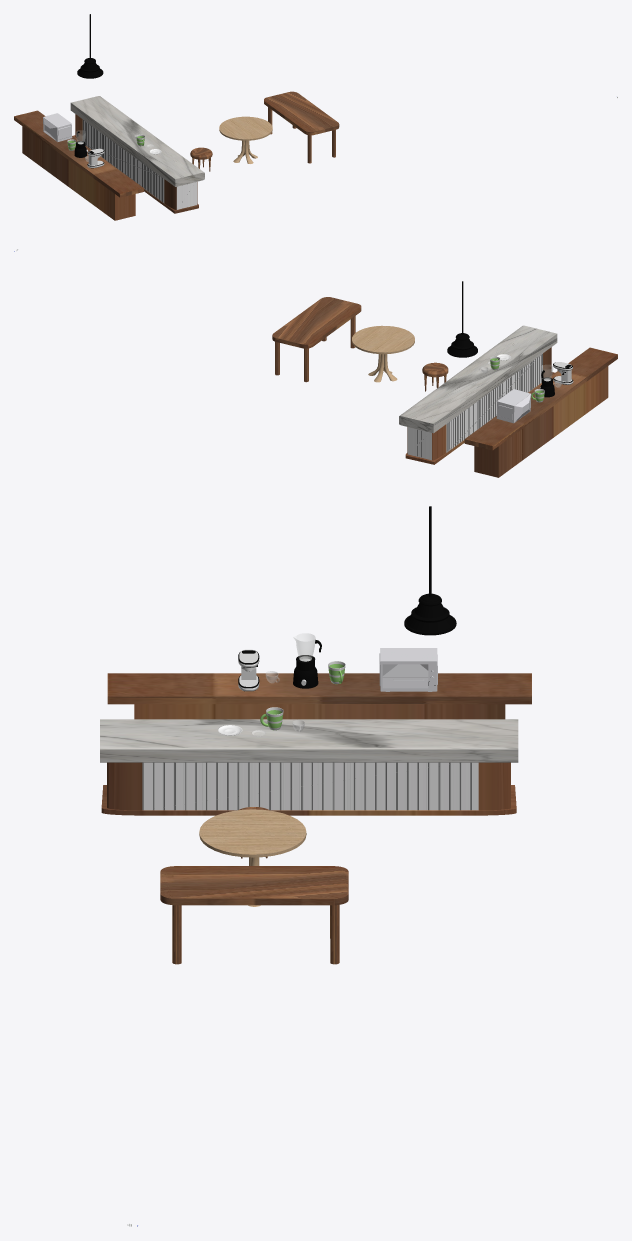
File: cafe.compressed.glb
3 views of the same model, one above another, from view 1: azimuth 30°, elevation 25°; view 2: azimuth 150°, elevation 25°; view 3: azimuth 270°, elevation 25° (orthographic). The views are drawn at different scales.
Parts seen in each view (by area): view 1: Cube, Cube.008, Cube.017, Cylinder.044, Cube.006, Cylinder.033, Cube.001; view 2: Cube, Cube.008, Cube.017, Cylinder.044, Cube.006, Cylinder.033, Cube.001, Cube.011; view 3: Cube, Cube.008, Cube.017, Cylinder.044, Cube.006, Cylinder.033.
Boxes of the visible parts, bbox=[...] form: Cube: bbox=[70, 96, 204, 213]; Cube.008: bbox=[14, 110, 143, 220]; Cube.017: bbox=[264, 91, 339, 163]; Cylinder.044: bbox=[219, 116, 272, 163]; Cube.006: bbox=[43, 113, 72, 141]; Cylinder.033: bbox=[77, 14, 103, 78]; Cube.001: bbox=[190, 147, 212, 171]; Cube: bbox=[399, 325, 557, 464]; Cube.008: bbox=[464, 347, 617, 477]; Cube.017: bbox=[272, 297, 361, 382]; Cylinder.044: bbox=[352, 325, 414, 382]; Cube.006: bbox=[496, 389, 531, 423]; Cylinder.033: bbox=[447, 281, 477, 357]; Cube.001: bbox=[422, 362, 448, 391]; Cube.011: bbox=[553, 362, 573, 384]; Cube: bbox=[100, 719, 518, 815]; Cube.008: bbox=[107, 673, 531, 719]; Cube.017: bbox=[160, 866, 348, 964]; Cylinder.044: bbox=[199, 809, 306, 906]; Cube.006: bbox=[379, 648, 437, 691]; Cylinder.033: bbox=[404, 506, 456, 635].
Size of what is drawn, in the model's own units: 98.63 by 26.27 by 36.65.
Materials: 8 (7 with a texture image).
